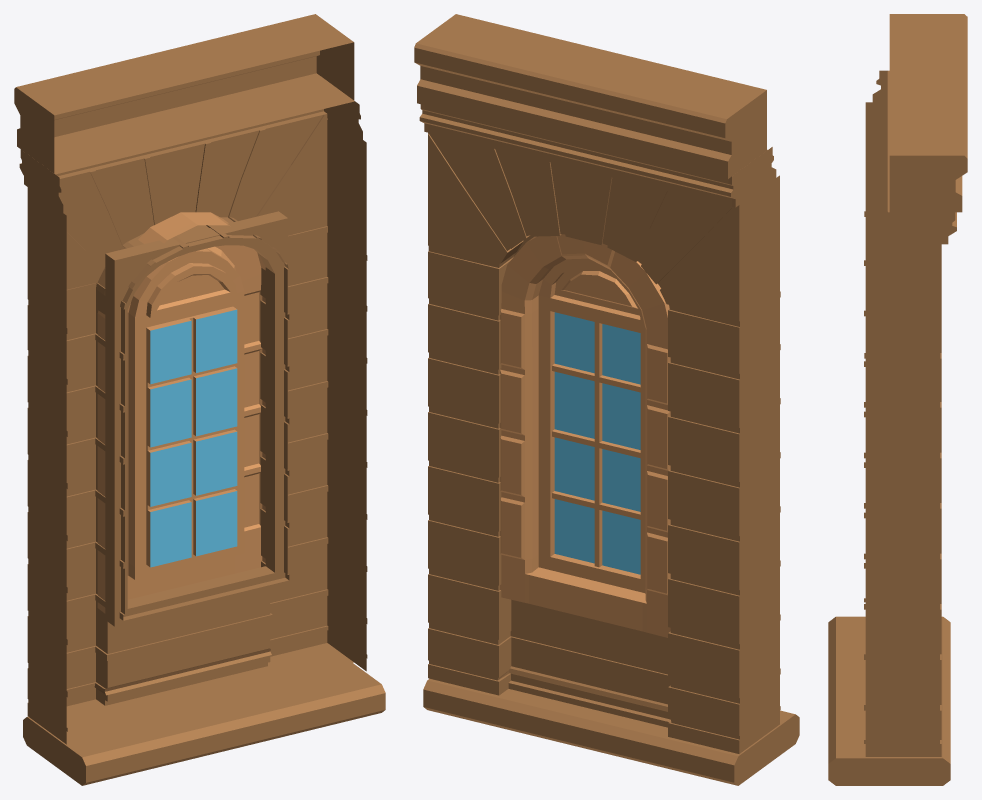
Rendered from F_small.fbx.
3 views of the same model, side by side, from view 1: azimuth 30°, elevation 25°; view 2: azimuth 150°, elevation 25°; view 3: azimuth 270°, elevation 25° (orthographic). The views are drawn at different scales.
Visible parts, largest first — view 1: F_Small; view 2: F_Small; view 3: F_Small.
Part boxes in pixels (x1,y1,x2,y2): F_Small: [14, 14, 385, 785]; F_Small: [414, 14, 799, 785]; F_Small: [828, 14, 967, 785].
Bounding box in the file's own units: 3.22 × 6.68 × 1.34.
